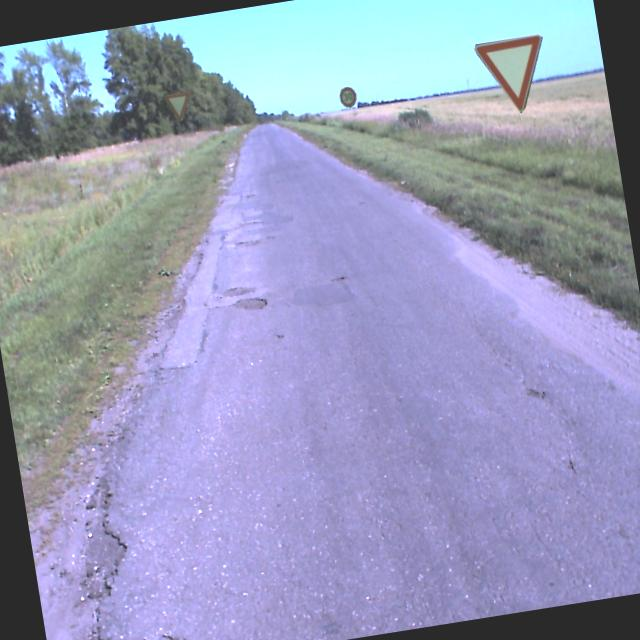road: (84, 123, 640, 640)
